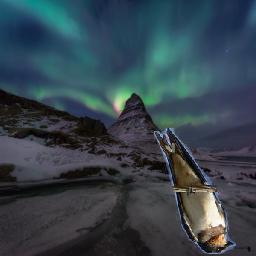Swallow: (154, 128, 236, 254)
